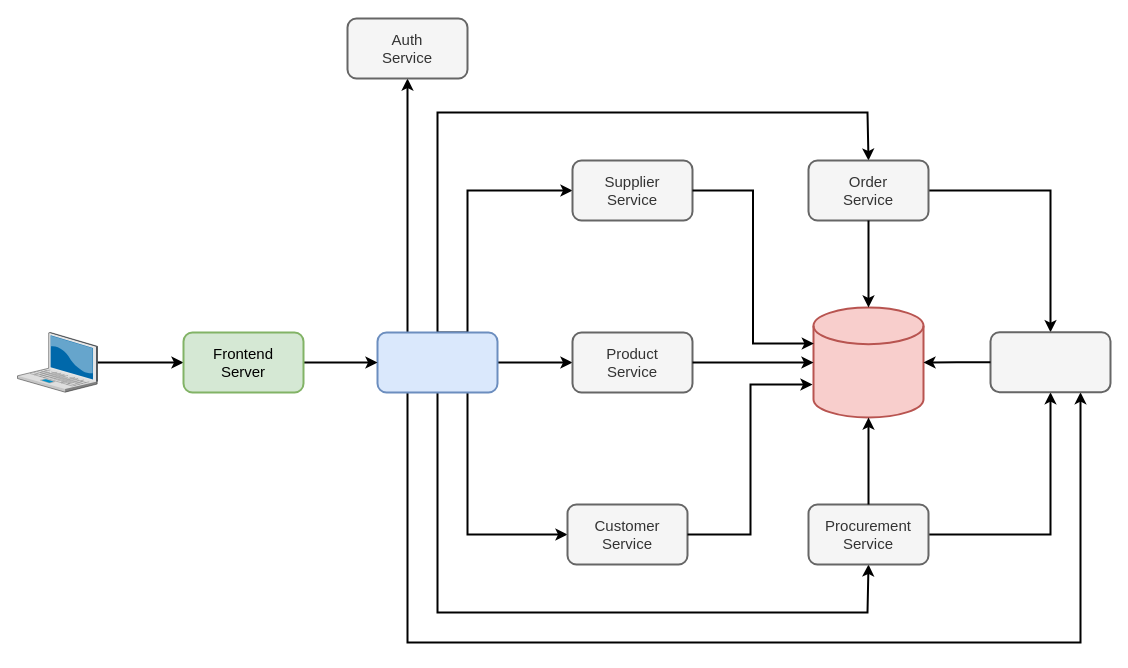
Some shapes in this 1128 by 668 pixel diagram are drawn without their labels. Each missing label, with the box of its shape:
API Gateway: (376, 331, 498, 393)
Client: (17, 332, 97, 392)
Database: (812, 306, 924, 418)
Inventory Service: (989, 331, 1111, 393)
